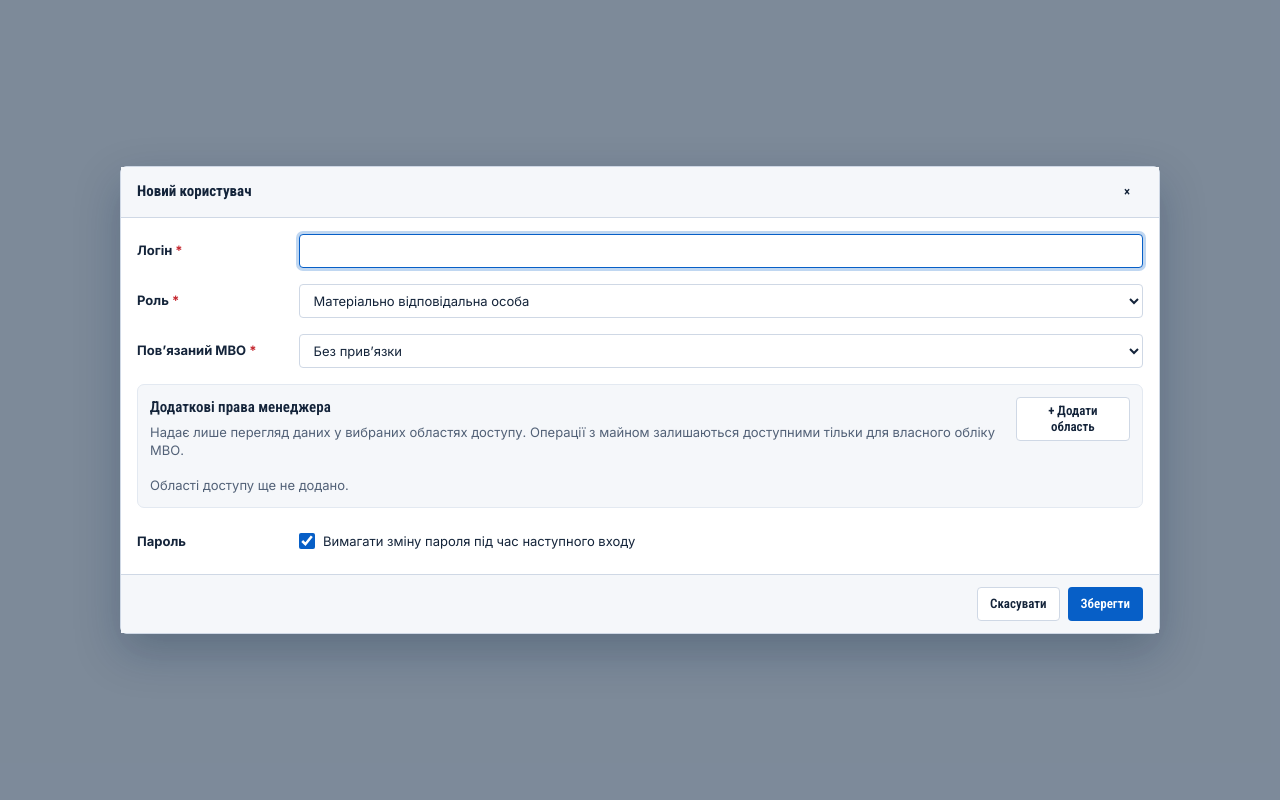
Test: UserFormModal manager access scopes › shows the Ukrainian manager role and scopes only for ORG_MANAGER
Select "Менеджер" in the dropdown labelled "Роль *" at [721, 301], box [299, 284, 1143, 318]
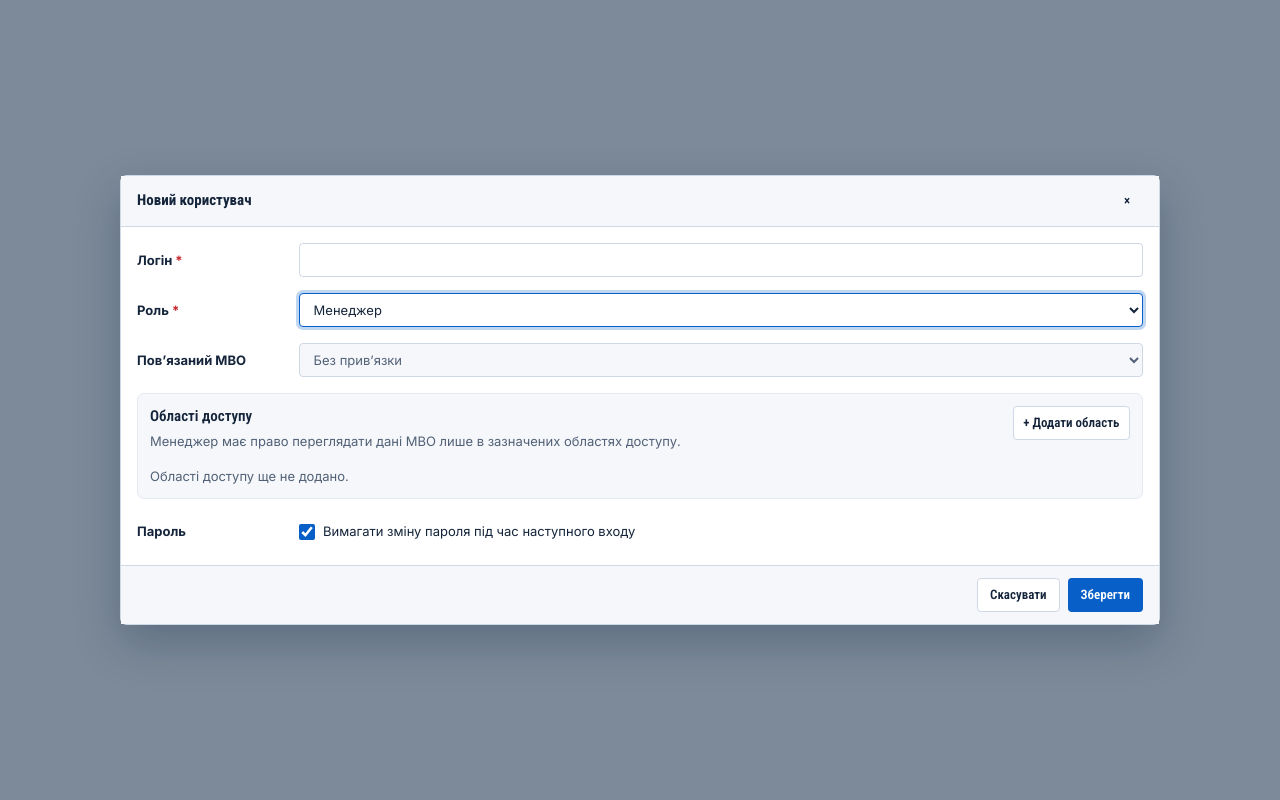
Expected: the heading "Області доступу" is shown, [150, 407, 252, 425]
Select "Бухгалтер" in the dropdown labelled "Роль *" at [721, 310], box [299, 293, 1143, 327]
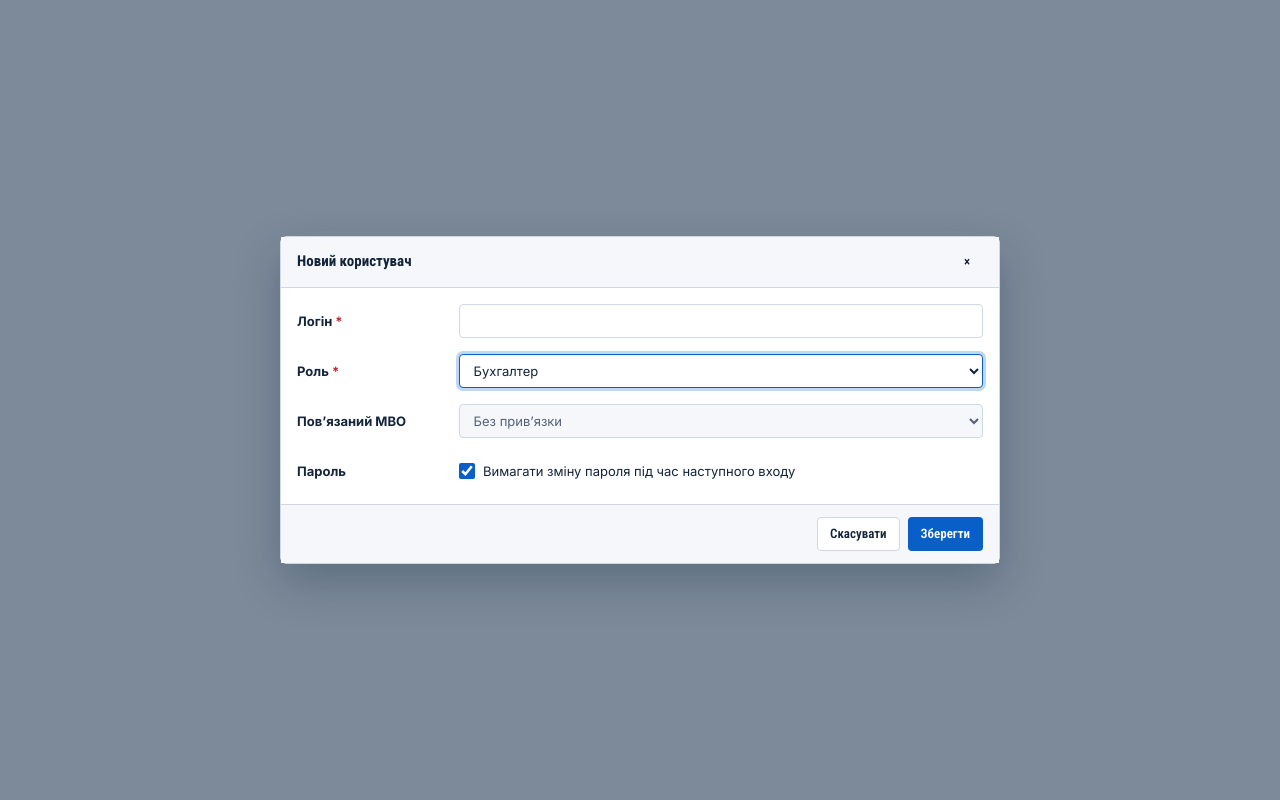
Expected: the heading "Області доступу" is gone
